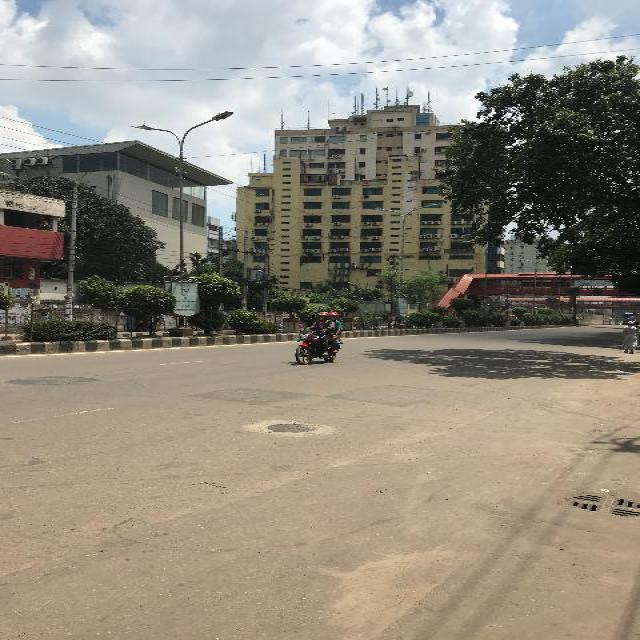motorbike: (292, 310, 343, 366)
truck: (621, 312, 635, 324)
